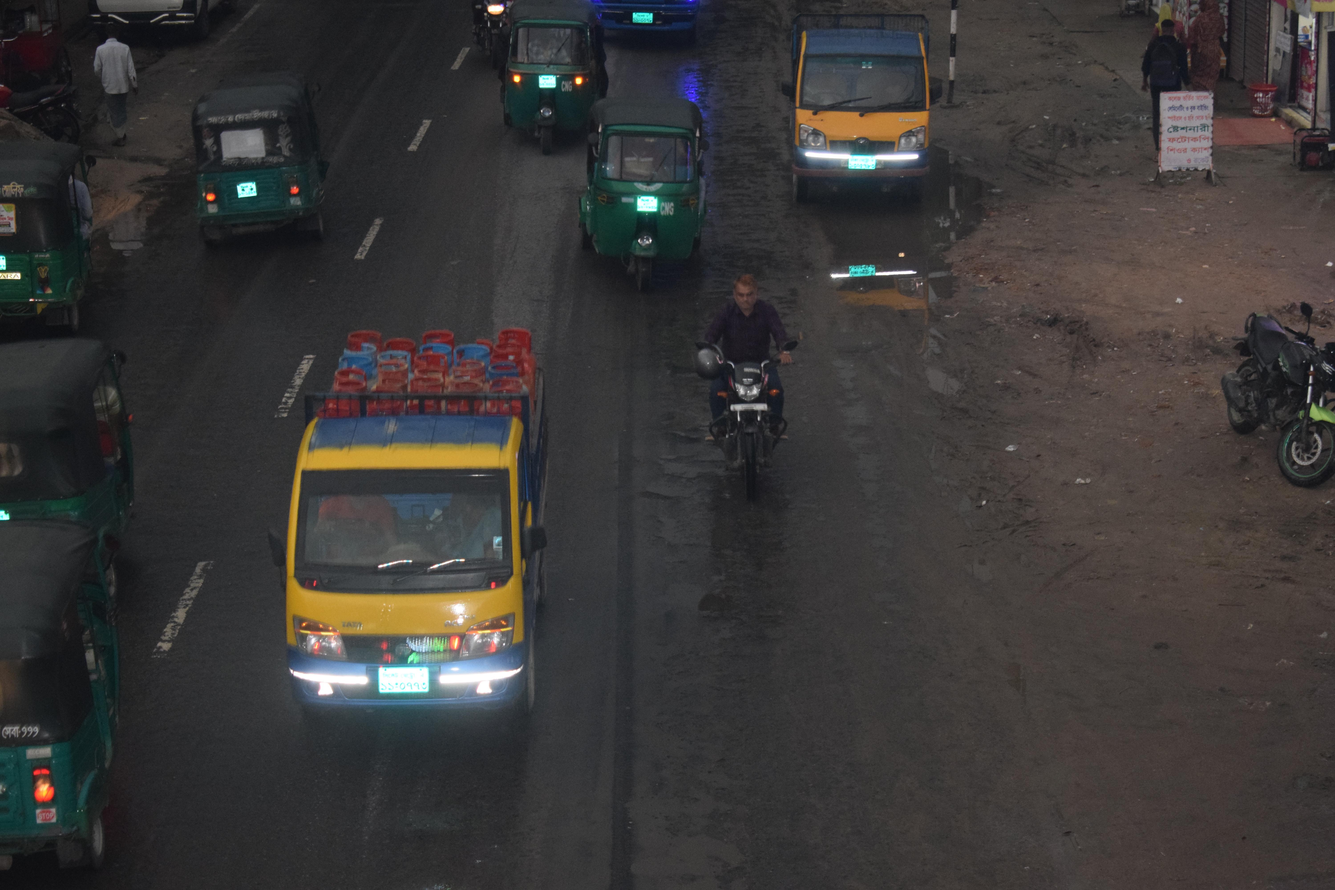Bike: (673, 243, 833, 519), (1183, 241, 1335, 505)
Truck: (228, 303, 570, 798), (744, 0, 962, 234)
